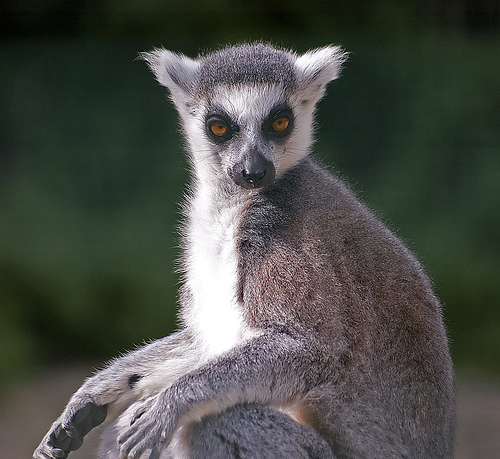cat: (32, 47, 455, 457)
